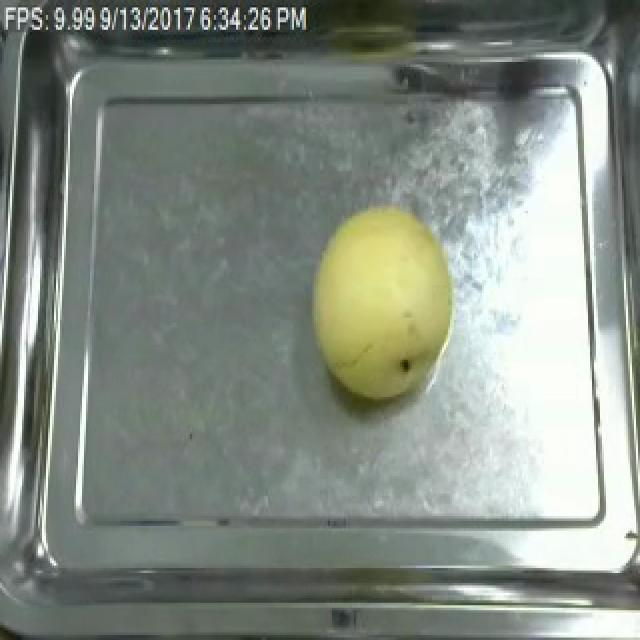Fruit: (300, 196, 464, 407)
